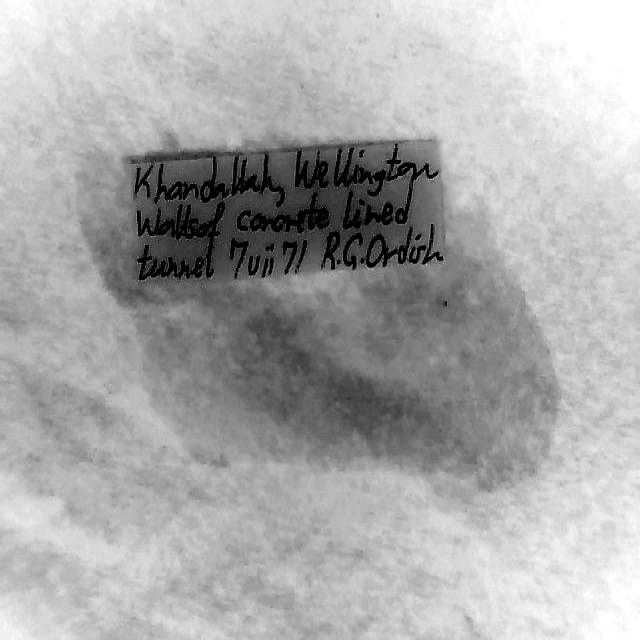hand_label: (130, 140, 444, 283)
